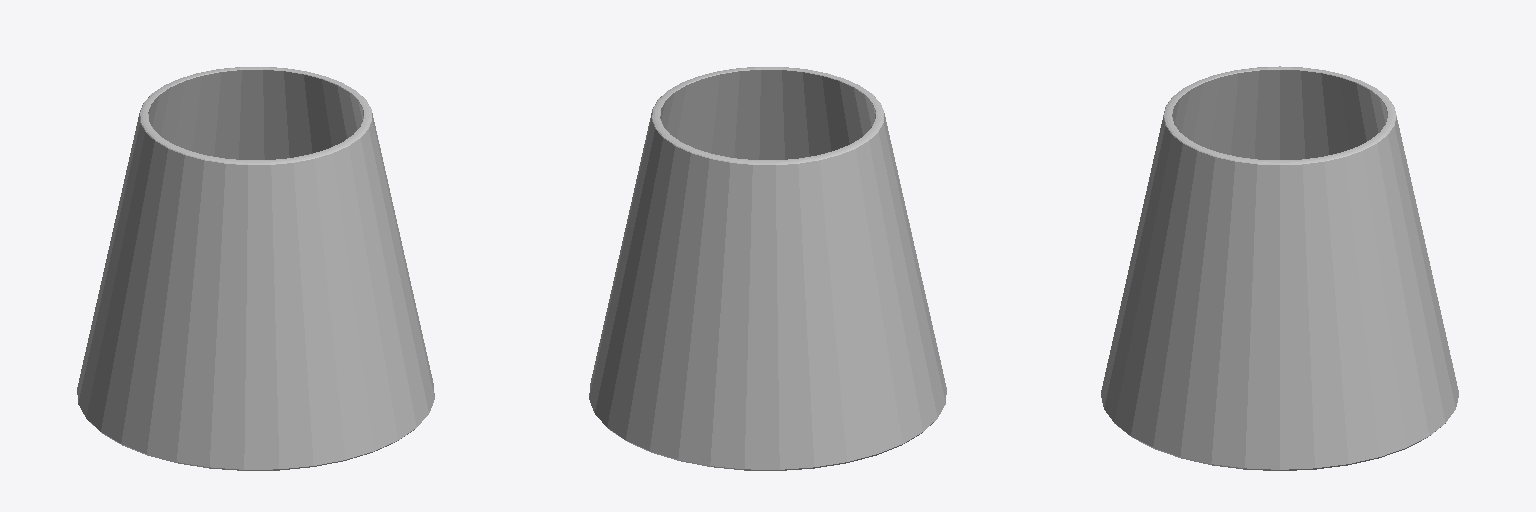
File: Saturn V_6.obj
3 renders of one model, left to right at view 1: azimuth 30°, elevation 25°; view 2: azimuth 150°, elevation 25°; view 3: azimuth 270°, elevation 25°, orthographic.
Parts seen in each view (by area): view 1: Saturn_V_Third_Stage_Interstage_Cylinder.001; view 2: Saturn_V_Third_Stage_Interstage_Cylinder.001; view 3: Saturn_V_Third_Stage_Interstage_Cylinder.001.
Part boxes in pixels (x1,y1,x2,y2): Saturn_V_Third_Stage_Interstage_Cylinder.001: (77,67,434,470); Saturn_V_Third_Stage_Interstage_Cylinder.001: (589,67,946,470); Saturn_V_Third_Stage_Interstage_Cylinder.001: (1101,66,1458,470).
Bounding box in the file's own units: 10.1 × 8.78 × 10.1.